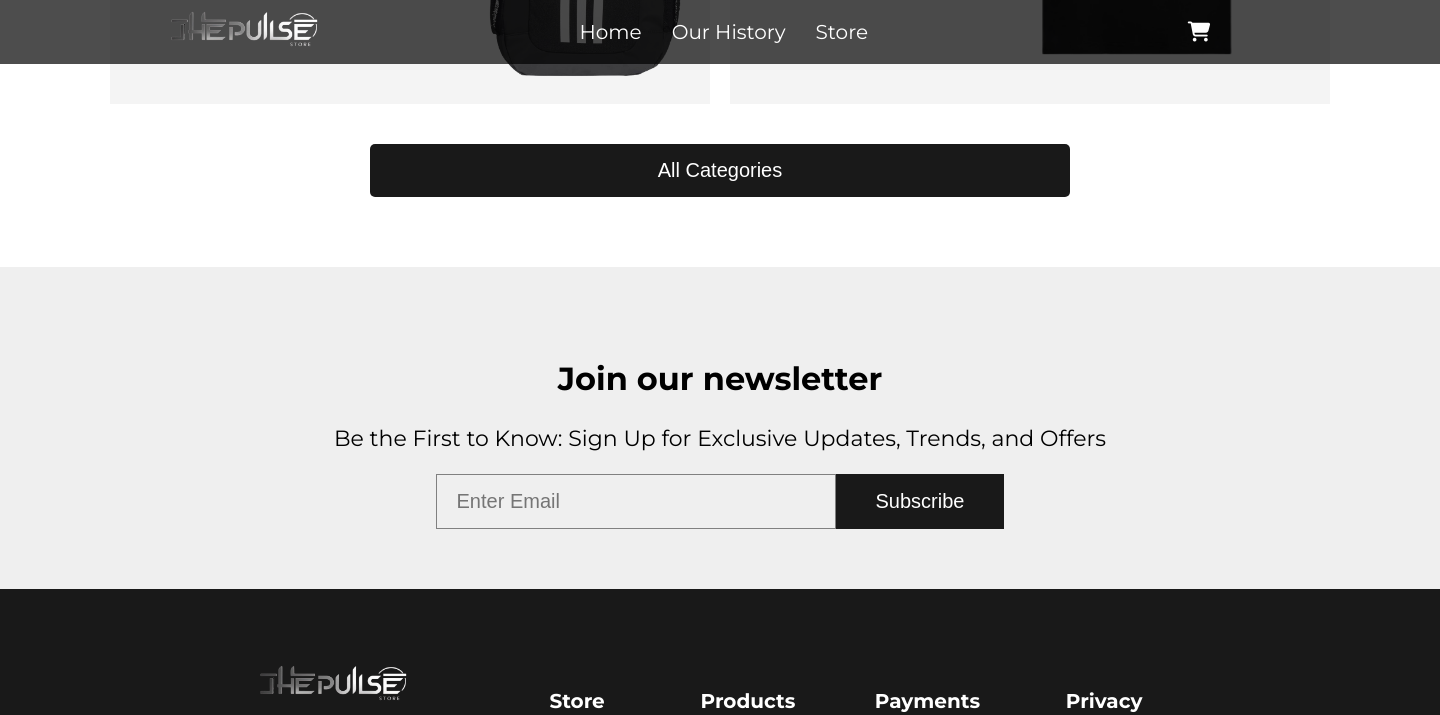
Test case: MainPage Component › handles newsletter subscription correctly
(page scrolled)
Step 1. Type "invalid-email" into the field with placeholder "Enter Email" → x=636, y=501, box [436, 474, 836, 529]
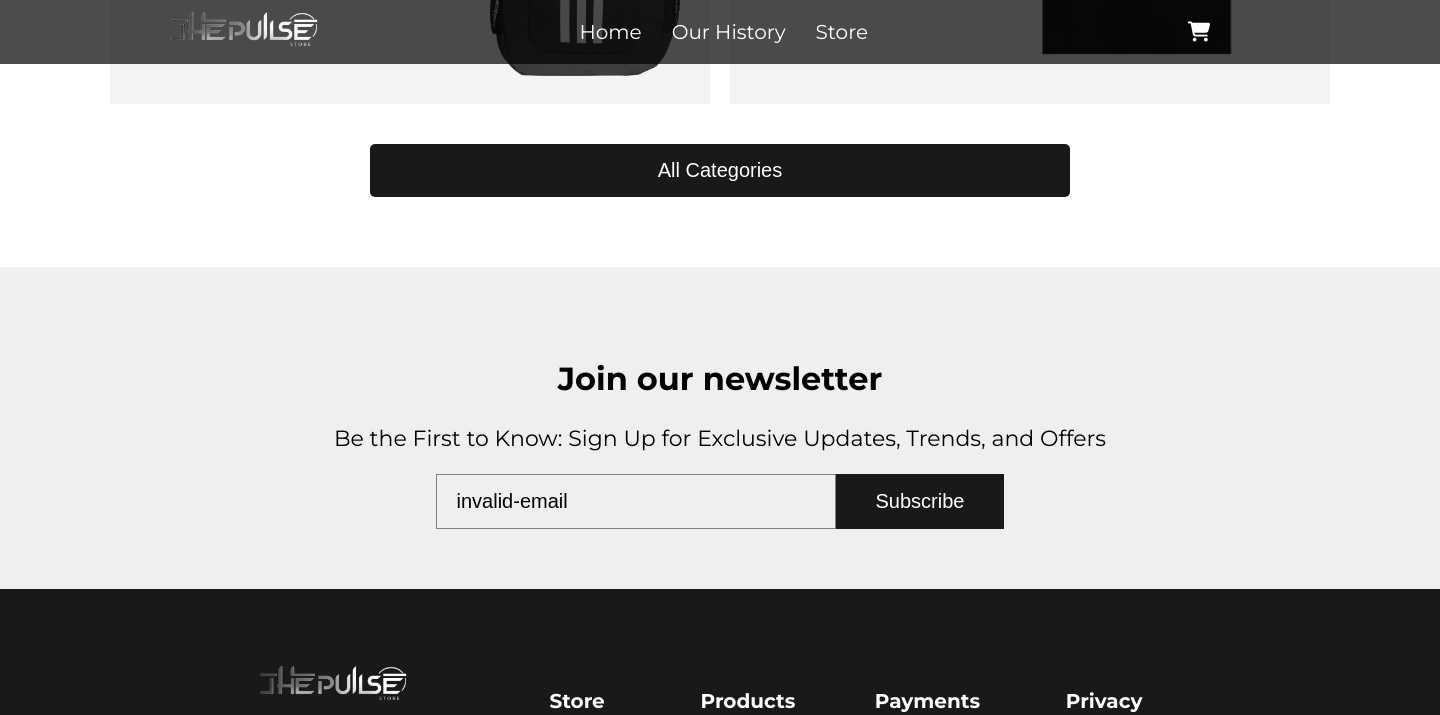
Step 2. Click the button "Subscribe" → x=920, y=501, box [836, 474, 1004, 529]
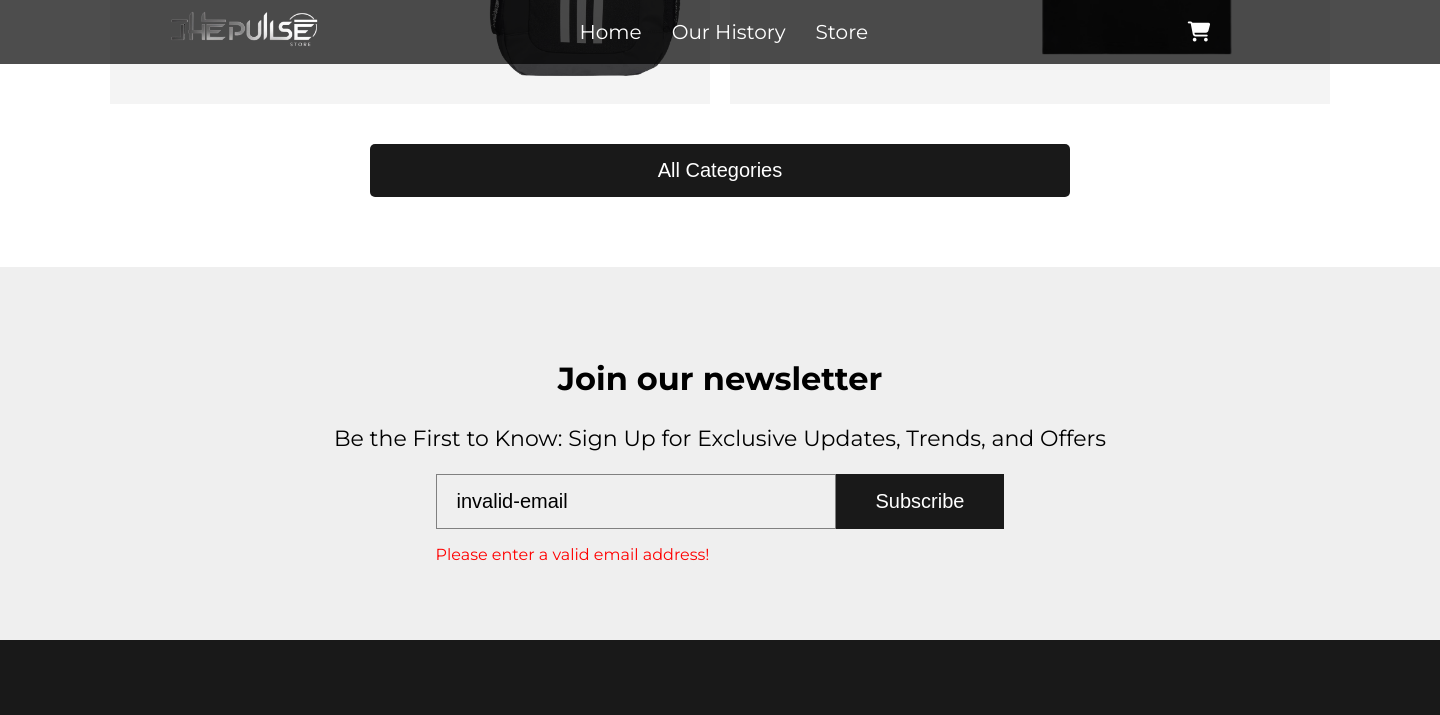
Now the text "Please enter a valid email address!" is shown, box [436, 545, 710, 564]
Step 3. Replace the text in the field with placeholder "Enter Email" with "test@example.com" → x=636, y=501, box [436, 474, 836, 529]
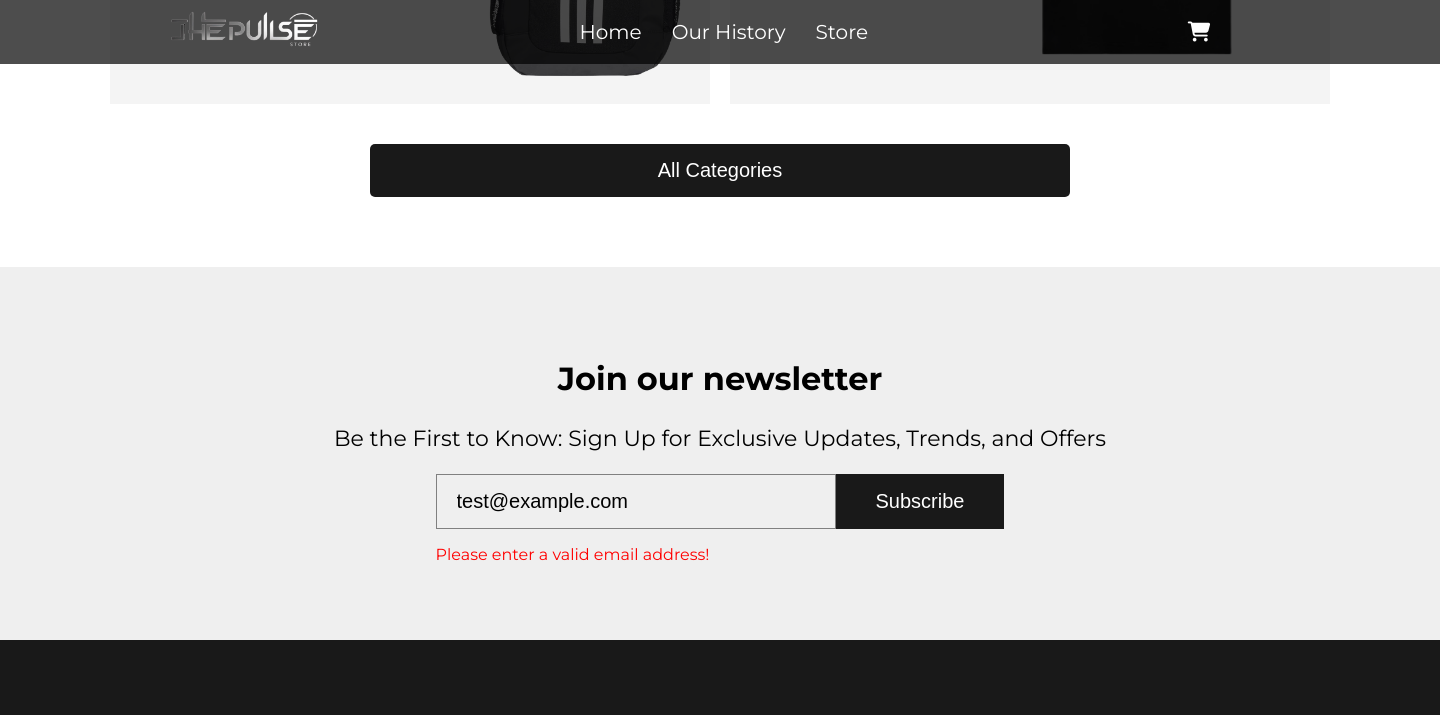
Step 4. Click the button "Subscribe" → x=920, y=501, box [836, 474, 1004, 529]
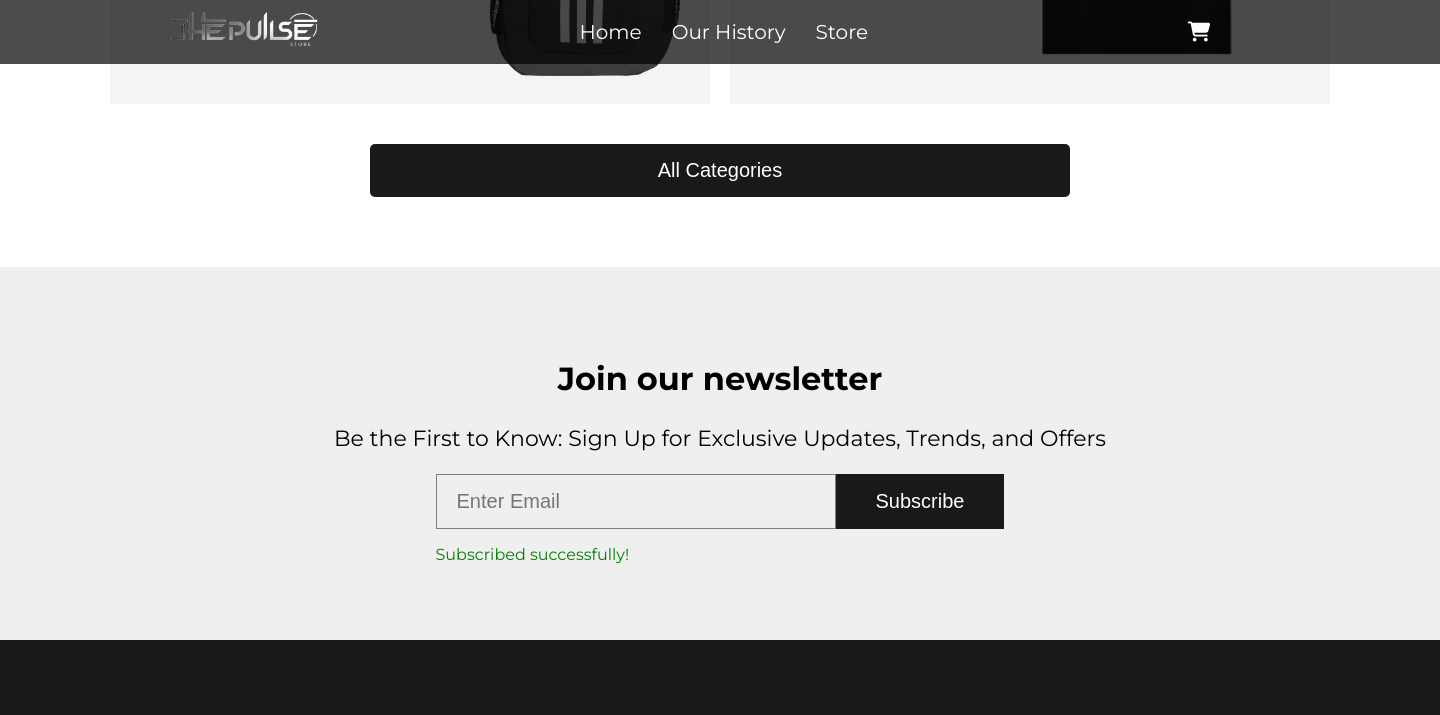
Now the text "Subscribed successfully!" is shown, box [436, 545, 629, 564]
Step 5. Type "test@example.com" into the field with placeholder "Enter Email" → x=636, y=501, box [436, 474, 836, 529]
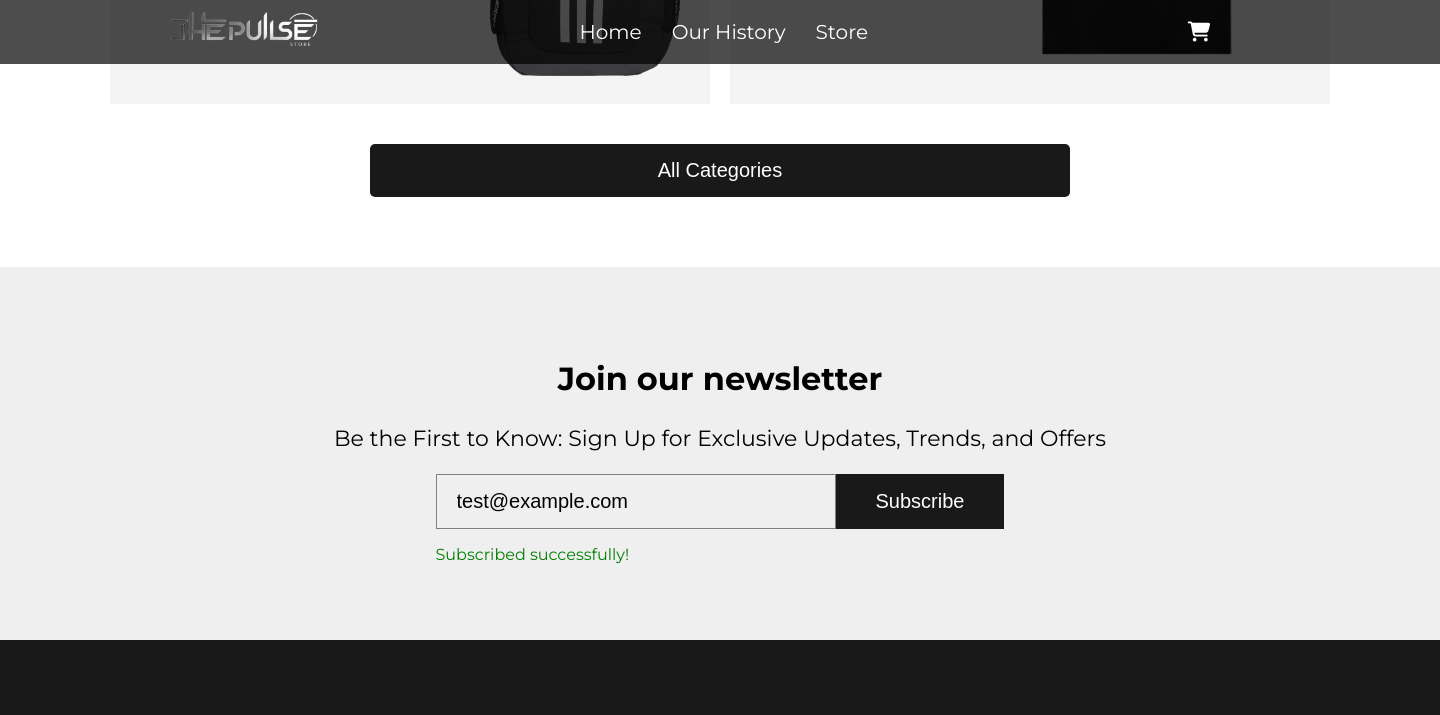
Step 6. Click the button "Subscribe" → x=920, y=501, box [836, 474, 1004, 529]
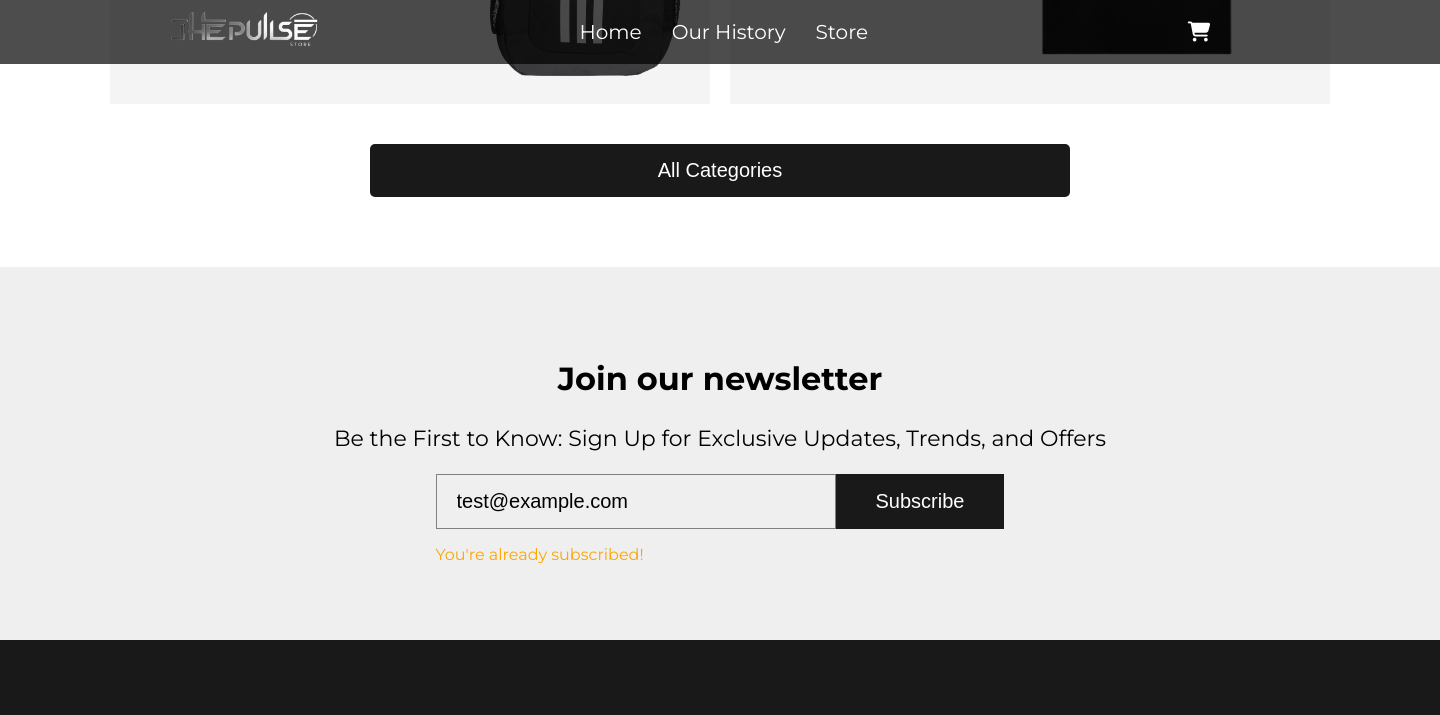
Now the text "You're already subscribed!" is shown, box [436, 545, 644, 564]
